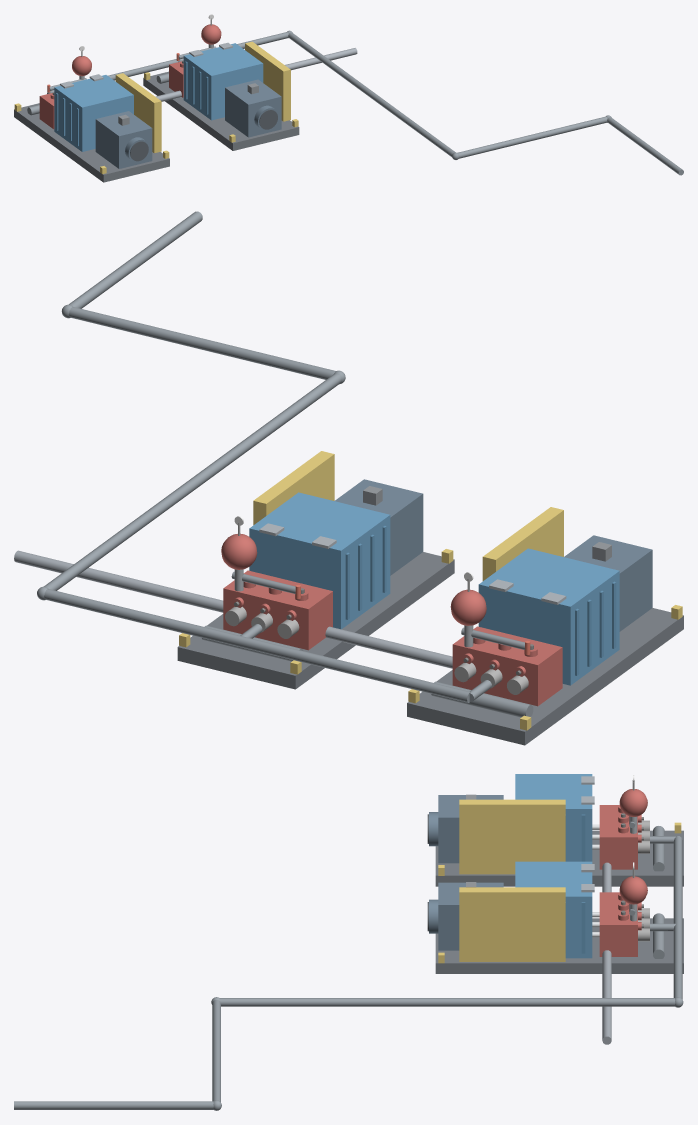
File: mudpumps.glb
3 views of the same model, one above another, from view 1: azimuth 30°, elevation 25°; view 2: azimuth 150°, elevation 25°; view 3: azimuth 270°, elevation 25° (orthographic). The views are drawn at different scales.
Parts seen in each view (by area): view 1: object 16, object 2, object 1, object 15, object 12, object 26, object 13, object 27, object 30, inst (×2), object 31, object 29 (+8 smaller); view 2: object 16, object 2, object 1, object 15, object 29, object 3, object 17, inst (×3), object 30, object 36, object 12, object 26 (+7 smaller); view 3: object 27, object 13, object 15, object 30, object 16, object 2, object 1, object 17, object 3, object 32, object 26, object 12 (+6 smaller).
Part boxes in pixels (x1,y1,x2,y2): object 16: (183,43,263,120); object 2: (54,75,133,151); object 1: (14,103,169,182); object 15: (143,71,299,150); object 12: (95,111,152,168); object 26: (225,79,281,137); object 13: (115,73,161,153); object 27: (245,41,290,121); object 30: (288,32,455,157); inst (×2): (14,61,298,174); object 31: (457,116,607,158); object 29: (50,32,288,91); object 16: (249,492,390,629); object 2: (478,548,619,685); object 1: (407,608,683,745); object 15: (177,552,454,689); object 29: (44,589,470,702); object 3: (452,626,562,706); object 17: (223,570,332,650); inst (×3): (179,526,682,730); object 30: (44,373,341,590); object 36: (14,550,452,668); object 12: (564,535,652,631); object 26: (334,479,423,575); object 27: (459,887,565,961); object 13: (459,799,565,874); object 15: (435,918,683,973); object 30: (219,998,675,1006); object 16: (515,861,592,958); object 2: (515,774,592,861); object 1: (435,830,683,886); object 17: (599,892,637,956); object 3: (599,805,637,869); object 32: (14,1101,213,1109); object 26: (438,882,503,950); object 12: (438,795,503,863).
Size of the model in its own units: 23.24 by 3.73 by 22.65.
